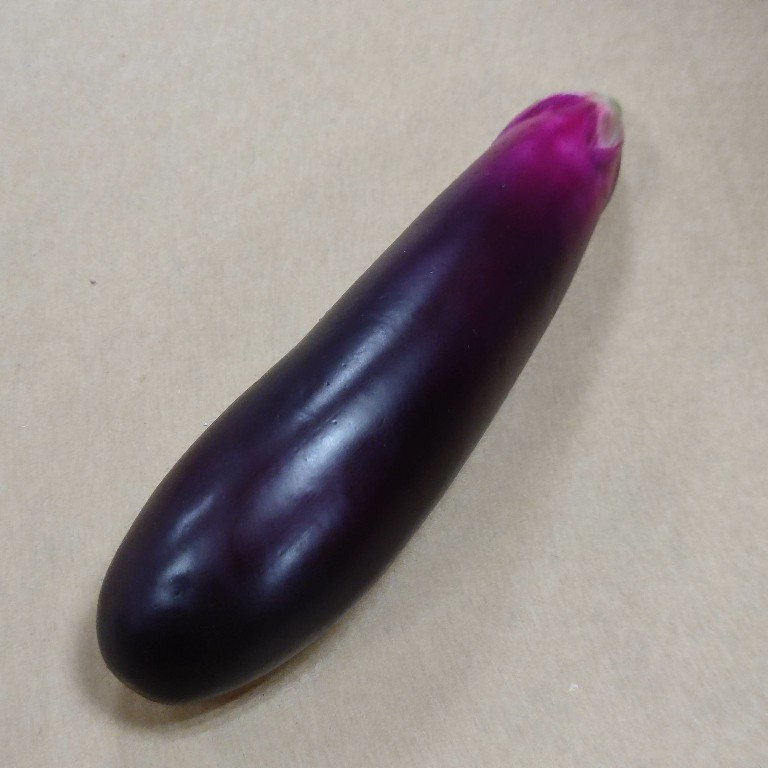fruit_eggplant: (88, 84, 630, 709)
